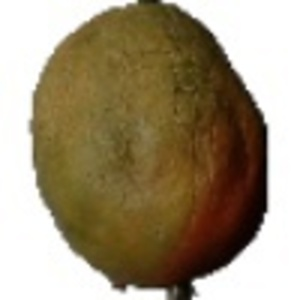mamão: (27, 2, 278, 286)
